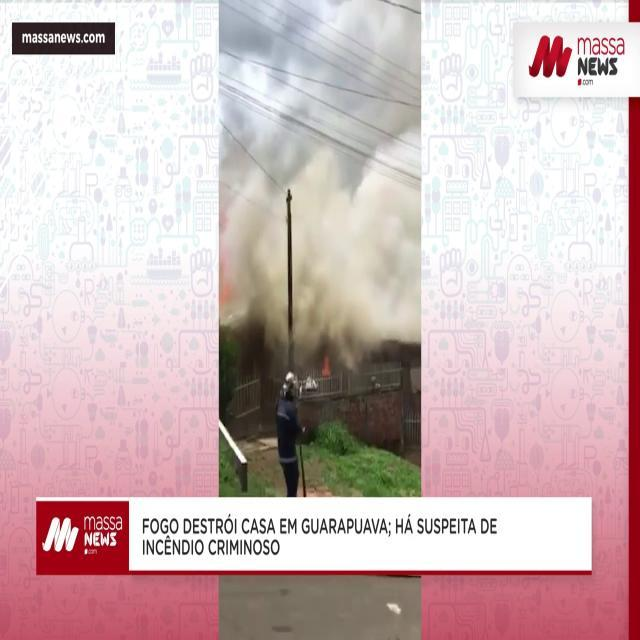Smoke: (216, 3, 421, 377), (319, 332, 329, 382)
